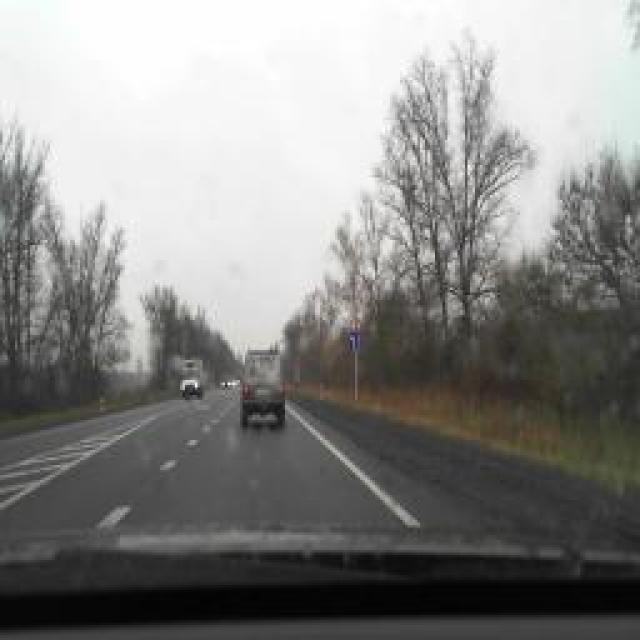sign: (348, 308, 362, 330)
